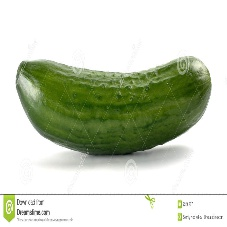cucumber: (15, 56, 212, 156)
